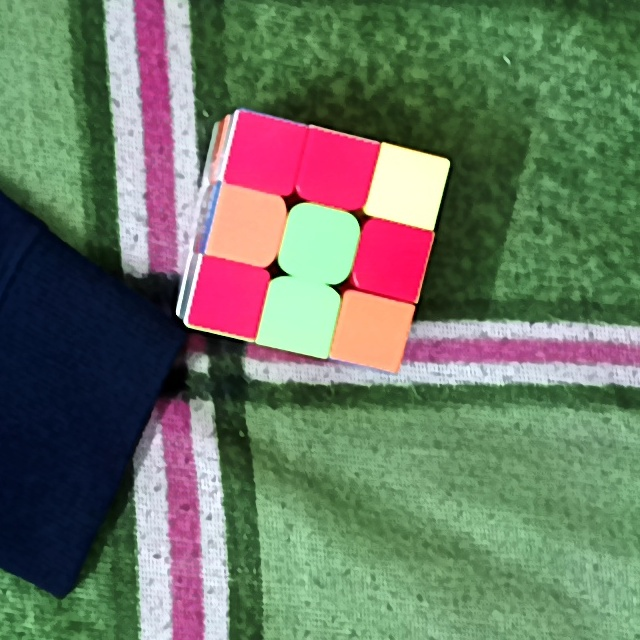tile: (312, 138, 365, 196), (275, 290, 328, 346), (294, 216, 348, 269), (202, 270, 254, 324), (243, 130, 293, 185), (220, 202, 274, 252), (371, 232, 420, 286), (386, 155, 434, 210), (350, 306, 401, 356)
